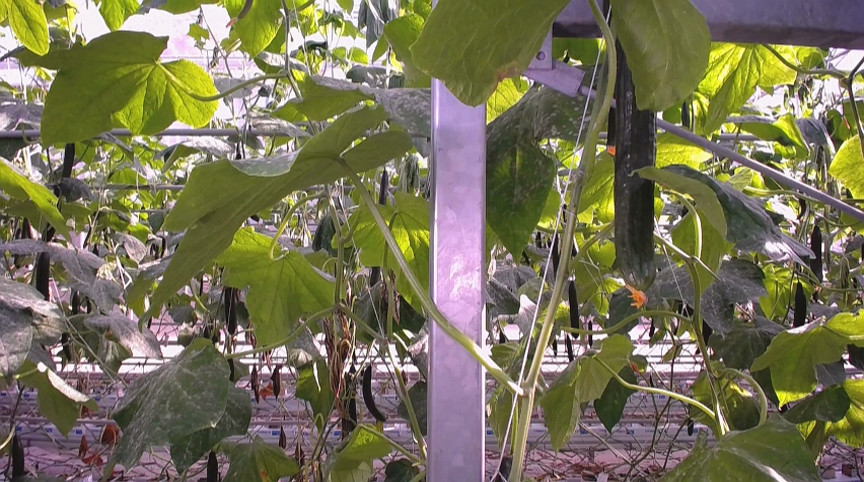cucumber: (614, 44, 656, 292), (361, 364, 386, 422), (567, 281, 581, 338), (810, 225, 824, 280), (38, 250, 53, 300), (9, 436, 24, 482), (793, 284, 806, 330), (207, 452, 219, 482)
